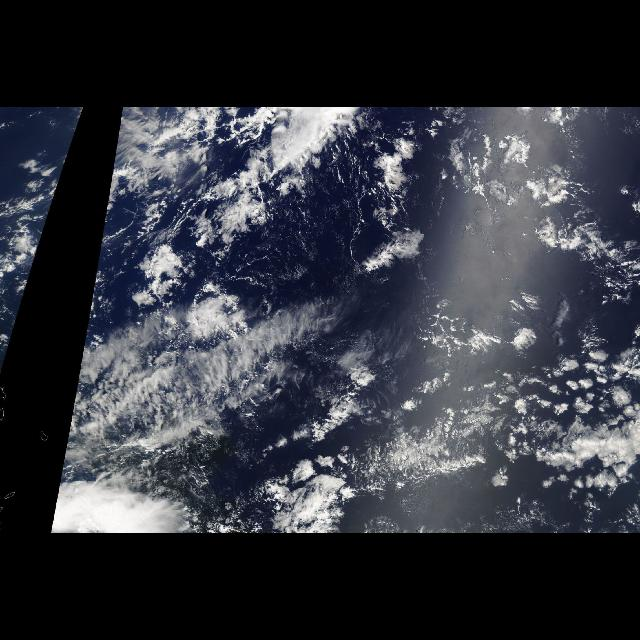Sugar: (250, 193, 388, 311)
